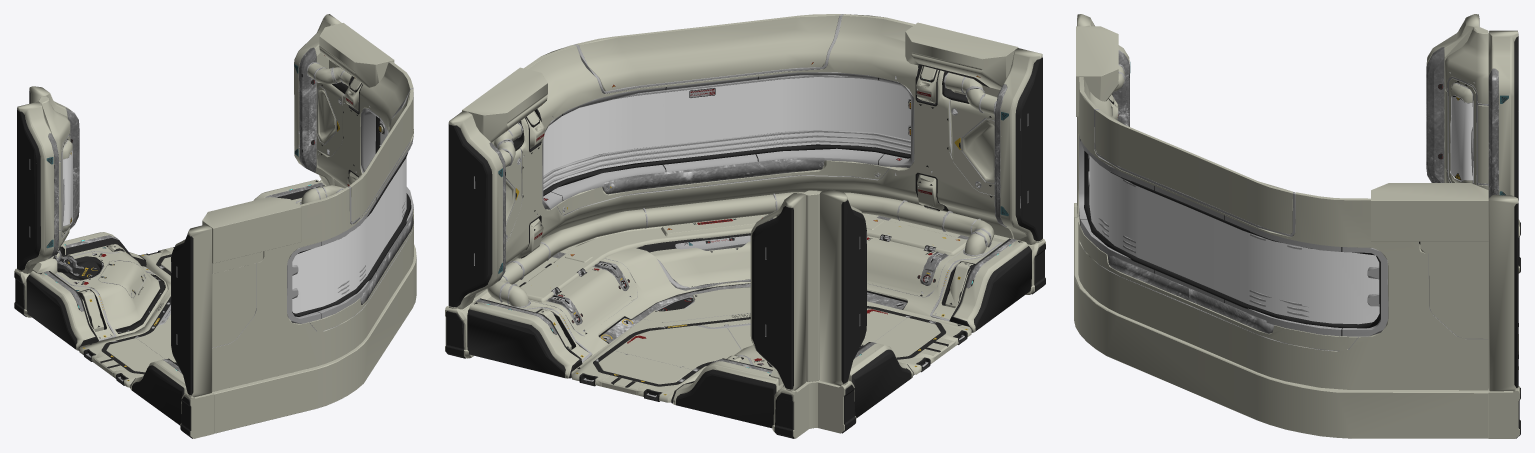
The model's file is corridor_corner.glb.
3 views of the same model, side by side, from view 1: azimuth 30°, elevation 25°; view 2: azimuth 150°, elevation 25°; view 3: azimuth 270°, elevation 25° (orthographic). The views are drawn at different scales.
Parts seen in each view (by area): view 1: Corridor_Corner; view 2: Corridor_Corner; view 3: Corridor_Corner.
Part boxes in pixels (x1,y1,x2,y2): Corridor_Corner: [14, 14, 416, 438]; Corridor_Corner: [445, 14, 1045, 438]; Corridor_Corner: [1074, 14, 1520, 438].
Size of the model in its own units: 4.86 by 2.86 by 4.86.
Materials: 11 (1 with a texture image).
